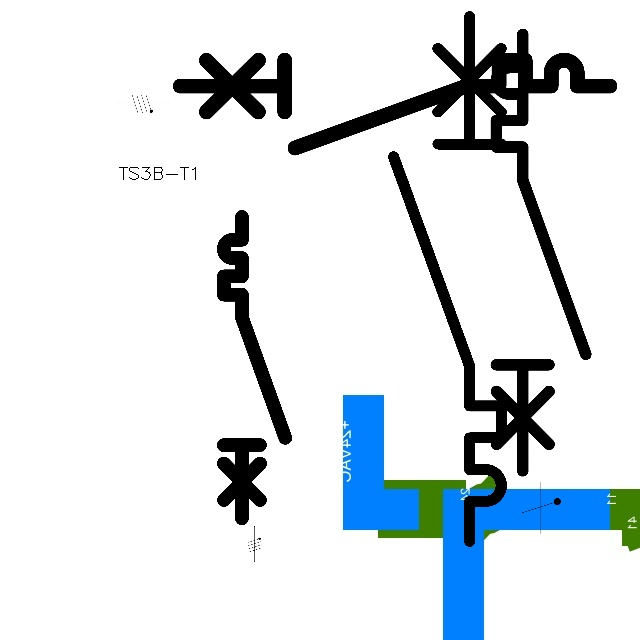interruptor_termomagnetico: (380, 3, 515, 555), (485, 23, 597, 482), (169, 49, 621, 159), (216, 209, 293, 526)
